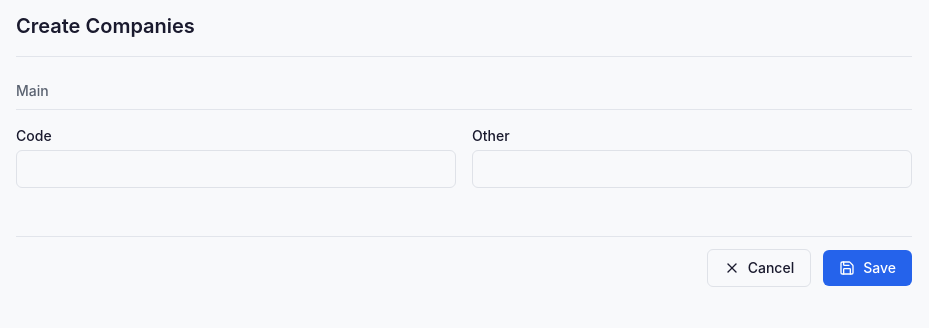
Test: Quiet record form validation › places the server's message beside the field it names, keeping the typed value and showing no general alert
Step 1. Type "abcdefgh" into the field labelled "Code" → (236, 169), box left=16, top=150, right=456, bottom=188
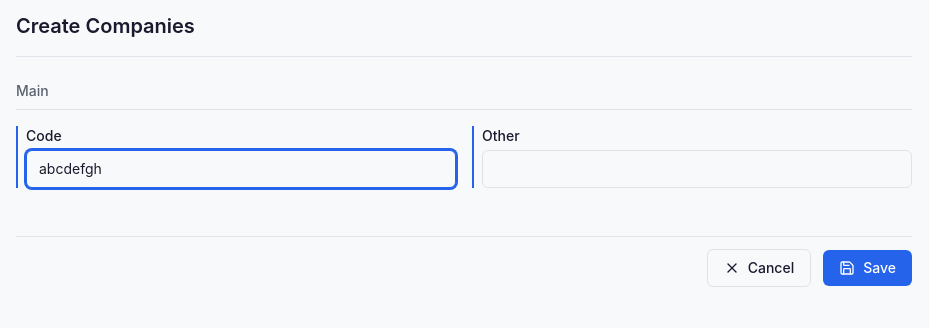
Step 2. Click the button "Save" → (868, 268), box left=823, top=250, right=912, bottom=286
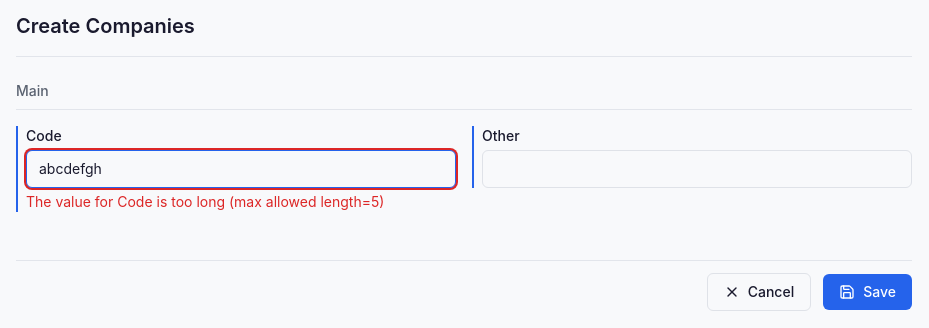
Check: the text "The value for Code is too long (max allowed length=5)" is shown, box left=26, top=192, right=384, bottom=212
